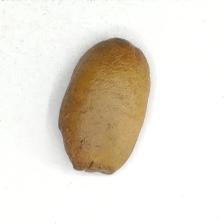NG: (58, 122, 116, 175)
